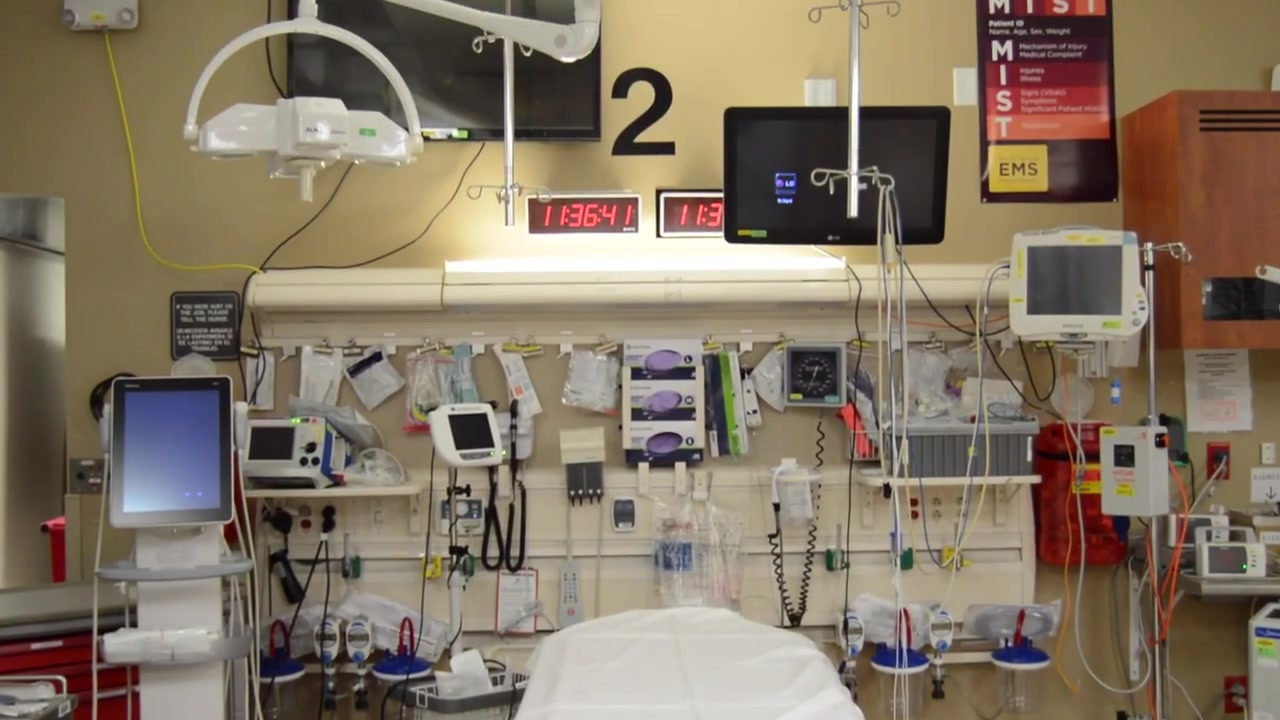bedside_monitor: (286, 1, 601, 142), (722, 106, 952, 246), (109, 375, 233, 530), (1006, 223, 1150, 342)
cabinet: (1124, 84, 1280, 349)
dispenser: (623, 333, 717, 471)
hospital_bed: (502, 606, 864, 720)
iv_pole: (1119, 238, 1188, 720), (809, 1, 904, 222), (468, 1, 554, 228)
medical_drawer: (1, 593, 144, 720)
surgical_light: (188, 91, 421, 202)
